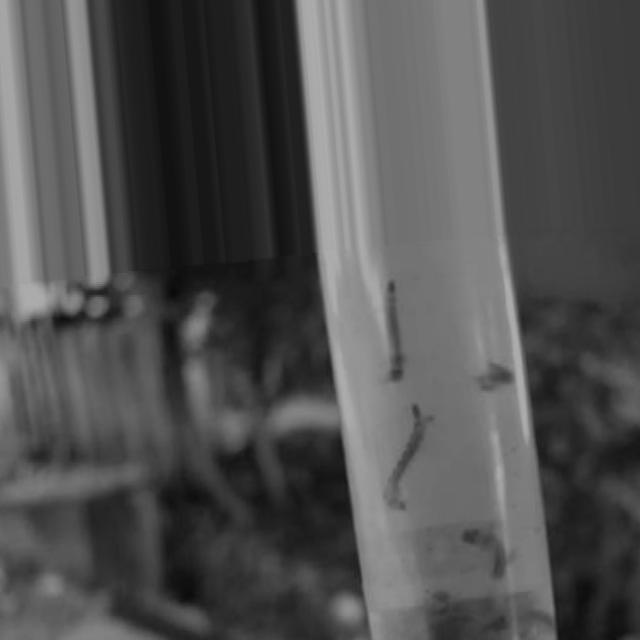larvas: (385, 400, 428, 509), (467, 527, 504, 577), (383, 280, 402, 376), (427, 588, 469, 624), (488, 610, 549, 628), (483, 363, 513, 394)
